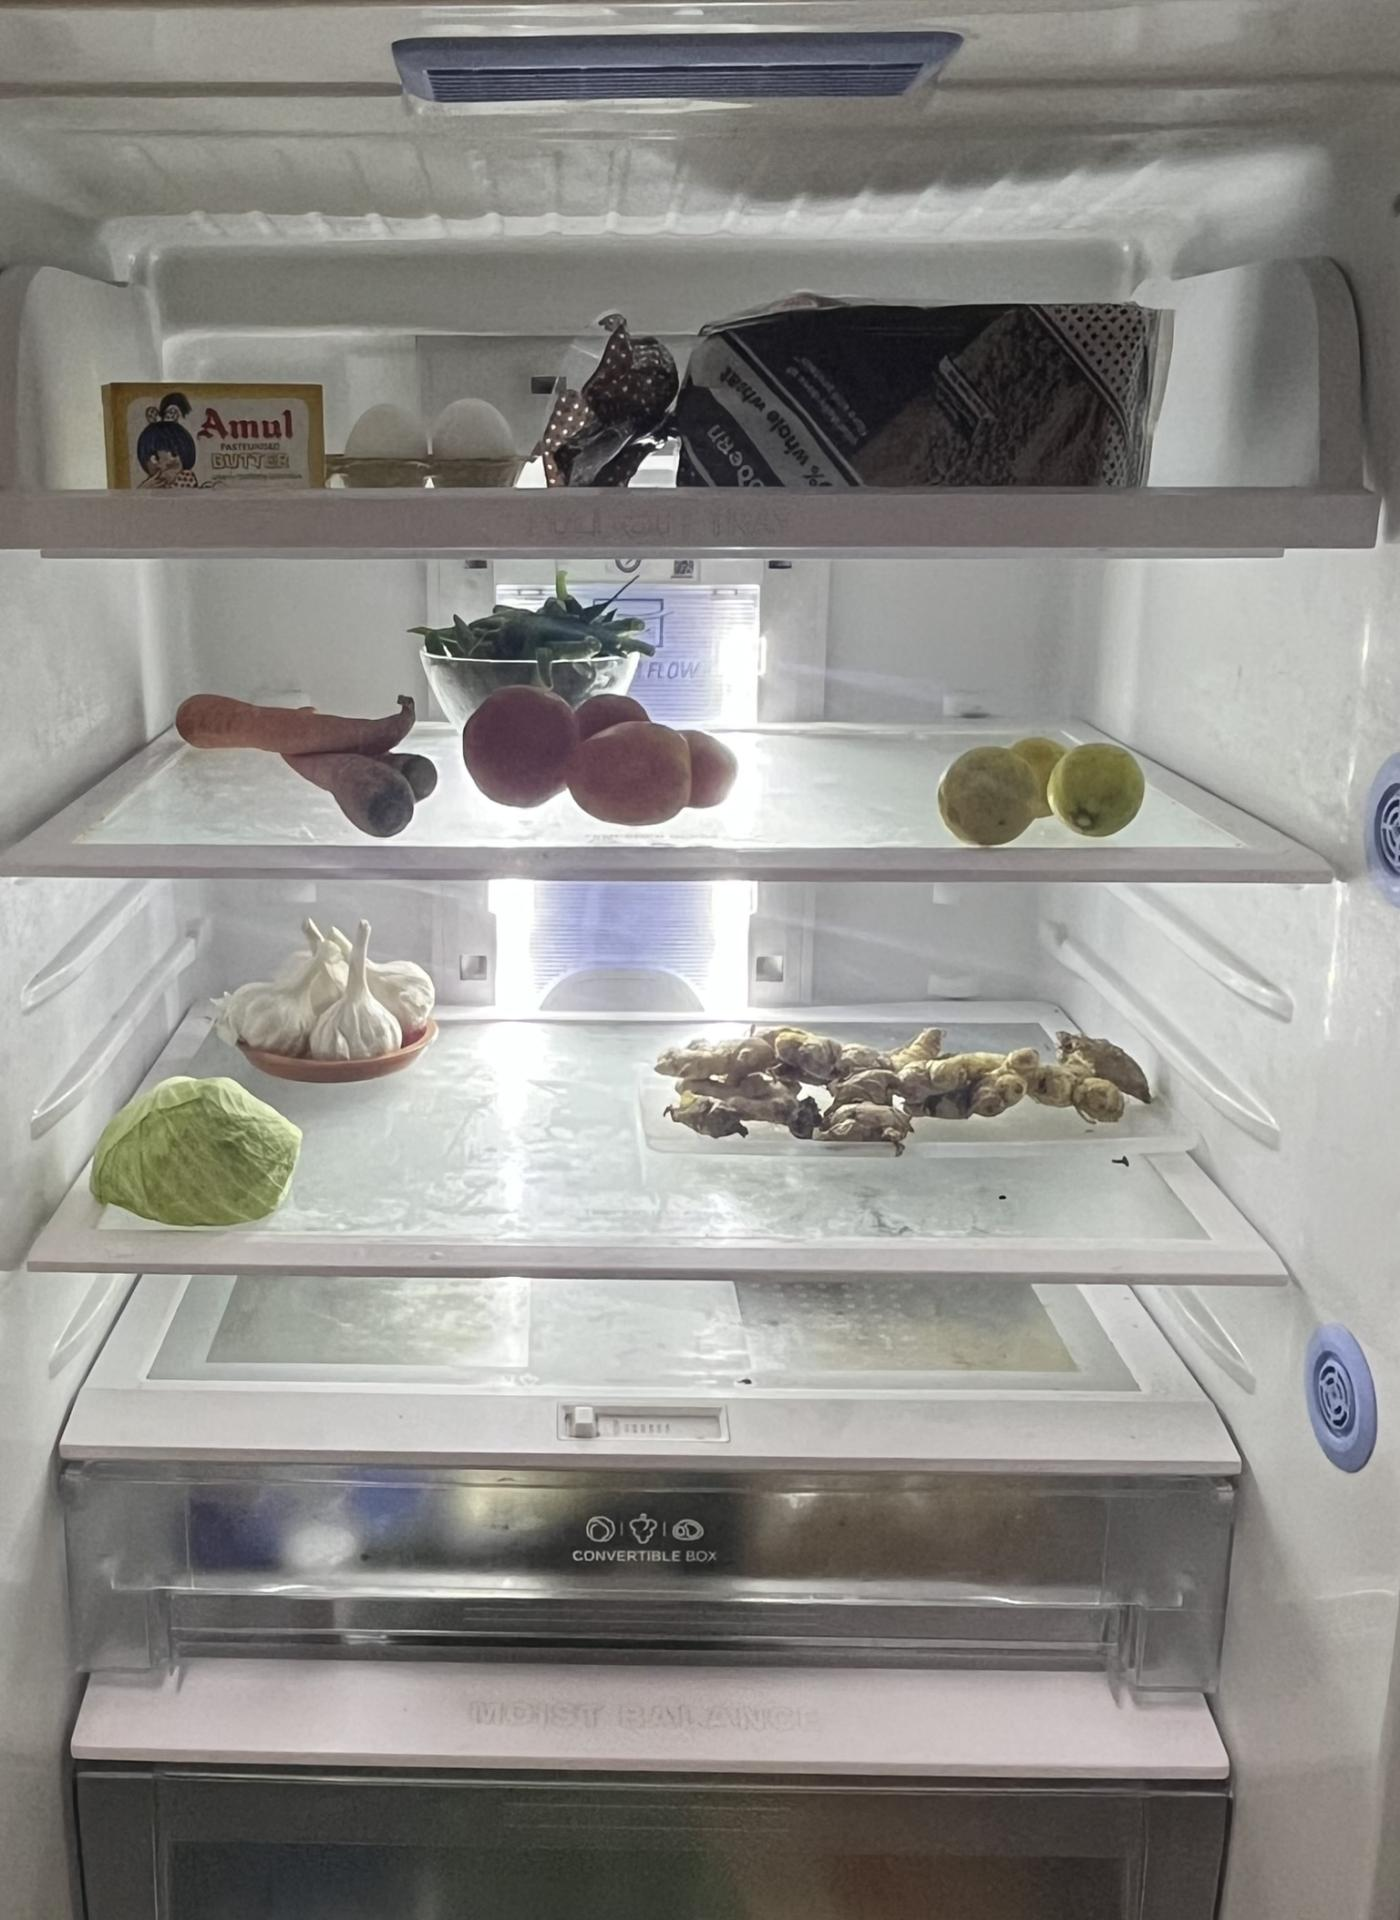bread: (553, 303, 1194, 459)
butter: (103, 373, 331, 490)
cabbage: (81, 1066, 310, 1219)
carrots: (180, 695, 443, 838)
chillies: (416, 590, 650, 704)
egg: (343, 394, 532, 456)
garlic: (222, 911, 435, 1070)
ginger: (653, 1026, 1161, 1140)
lemon: (936, 727, 1155, 844)
tomato: (465, 687, 729, 829)
